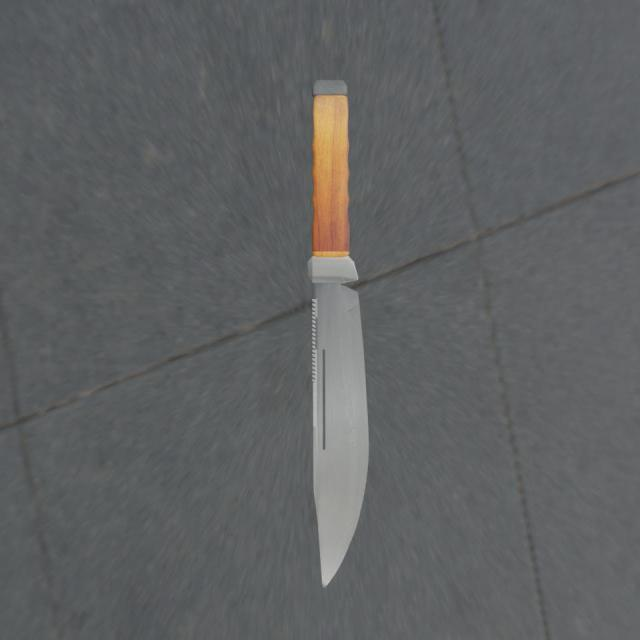knife: (308, 81, 353, 285)
